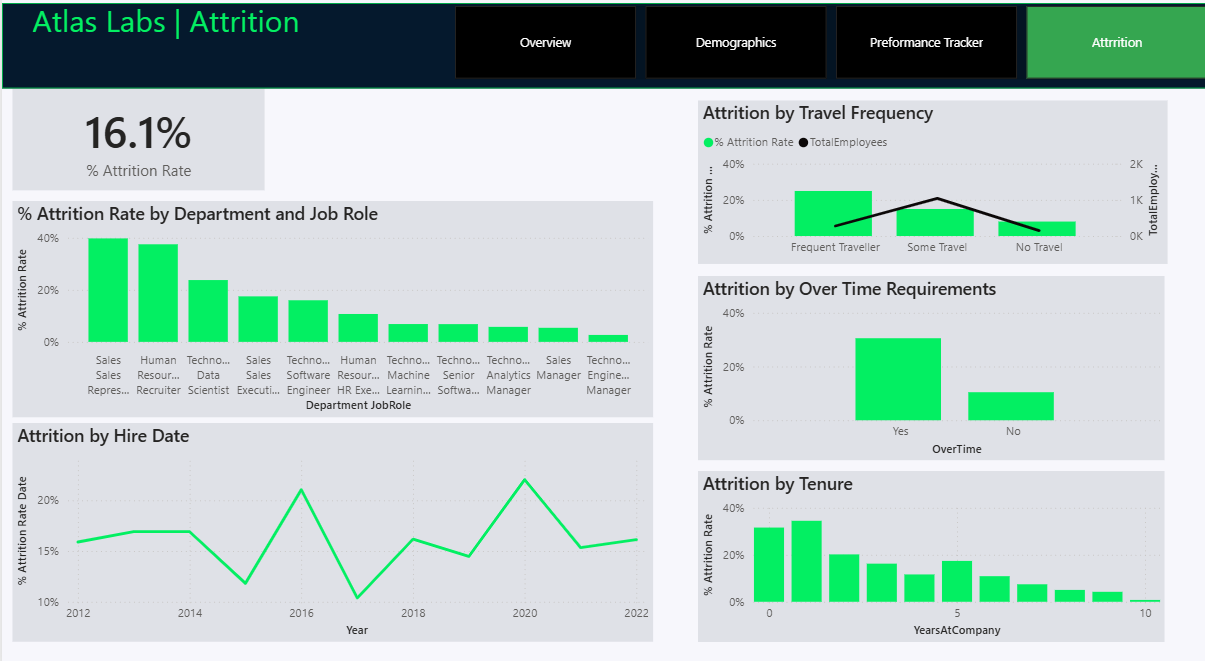

Layout of this report page (visuals, bound fields, positions):
{"tool":"powerbi","page":{"name":"Attrrition","canvas":[1280,720],"ordinal":3},"visuals":[{"type":"card","fields":{"Values":["__Measures.% Attrition Rate"]},"box":[11.1,100.2,267.2,108.2],"z":0},{"type":"columnChart","title":"% Attrition Rate by Department and Job Role","fields":{"Y":["__Measures.% Attrition Rate"],"Category":["DimEmployee.Department","DimEmployee.JobRole"]},"box":[11.1,219.5,679.2,229],"z":1000},{"type":"lineChart","title":"Attrition by Hire Date","fields":{"Y":["__Measures.% Attrition Rate Date"],"Category":["DimDate.Date.Variation.Date Hierarchy.Year"]},"box":[11.1,454.9,679.2,232.2],"z":2000},{"type":"lineStackedColumnComboChart","title":" Attrition by Travel Frequency","fields":{"Category":["DimEmployee.BusinessTravel"],"Y":["__Measures.% Attrition Rate"],"Y2":["__Measures.TotalEmployees"]},"box":[738,112.9,497.9,173.4],"z":3000},{"type":"lineStackedColumnComboChart","title":" Attrition by Over Time Requirements","fields":{"Y":["__Measures.% Attrition Rate"],"Category":["DimEmployee.OverTime"]},"box":[738,299,494.7,195.6],"z":4000},{"type":"columnChart","title":"Attrition by Tenure","fields":{"Y":["__Measures.% Attrition Rate"],"Category":["DimEmployee.YearsAtCompany"]},"box":[738,505.8,494.7,181.3],"z":5000},{"type":"shape","box":[0,10,1280.4,90.7],"z":6000},{"type":"textbox","box":[27,0,373.8,90.7],"z":7000},{"type":"pageNavigator","box":[480.4,12.7,800.1,77.9],"z":7001}]}

Visuals, with their boxes in screenshot pixels (x1, y1, x2, y2), scaled from the page's 1280x720 canvas onto the 1205x661 screenshot:
card - __Measures.% Attrition Rate: 10 92 262 191
"% Attrition Rate by Department and Job Role" columnChart: 10 202 650 412
"Attrition by Hire Date" lineChart: 10 418 650 631
" Attrition by Travel Frequency" lineStackedColumnComboChart: 695 104 1163 263
" Attrition by Over Time Requirements" lineStackedColumnComboChart: 695 274 1160 454
"Attrition by Tenure" columnChart: 695 464 1160 631
shape: 0 9 1204 92
textbox: 25 0 377 83
pageNavigator: 452 12 1204 83
